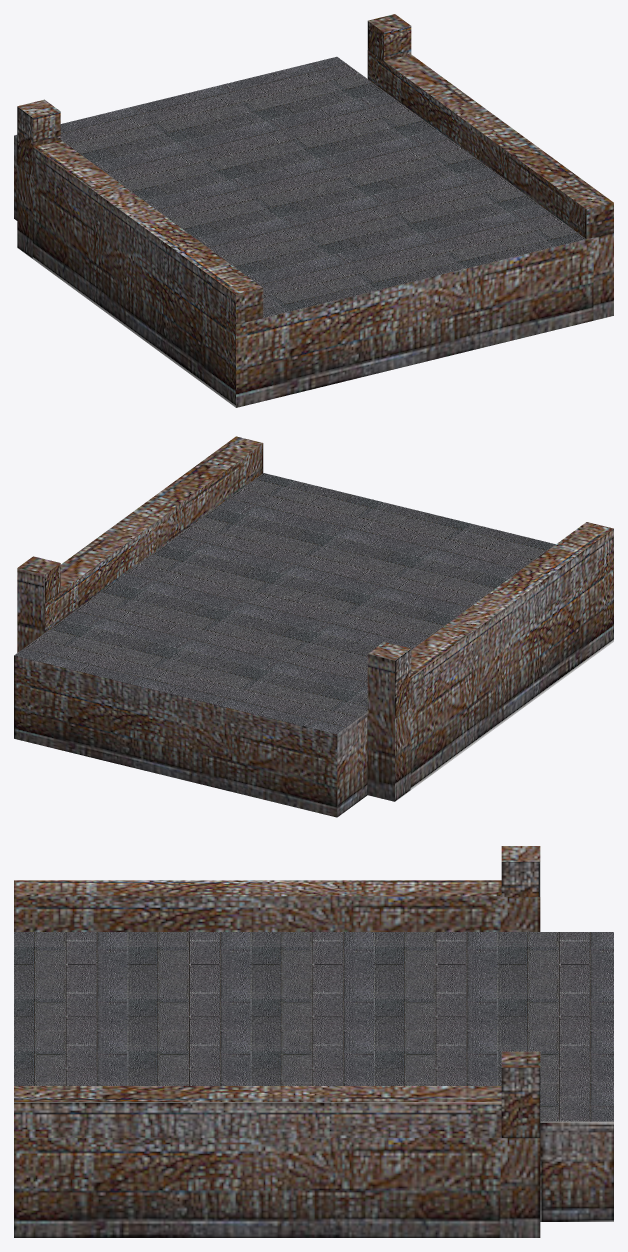
Rendered from caminoprincipalumsa.fbx.
The picture shows the model from 3 angles, top to bottom: view 1: azimuth 30°, elevation 25°; view 2: azimuth 150°, elevation 25°; view 3: azimuth 270°, elevation 25°; orthographic projection. The views are drawn at different scales.
Visible parts, largest first — view 1: Cube; view 2: Cube; view 3: Cube.
Part boxes in pixels (x1,y1,x2,y2): Cube: [14, 14, 613, 407]; Cube: [14, 436, 613, 817]; Cube: [14, 846, 613, 1237].
Size of the model in its own units: 140 by 50.21 by 160.
2 materials, 2 textured.
